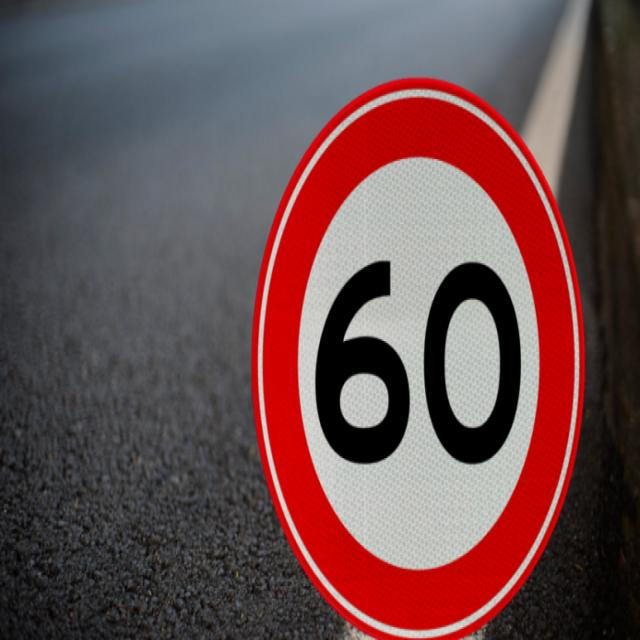speed_limit_60: (241, 67, 593, 640)
